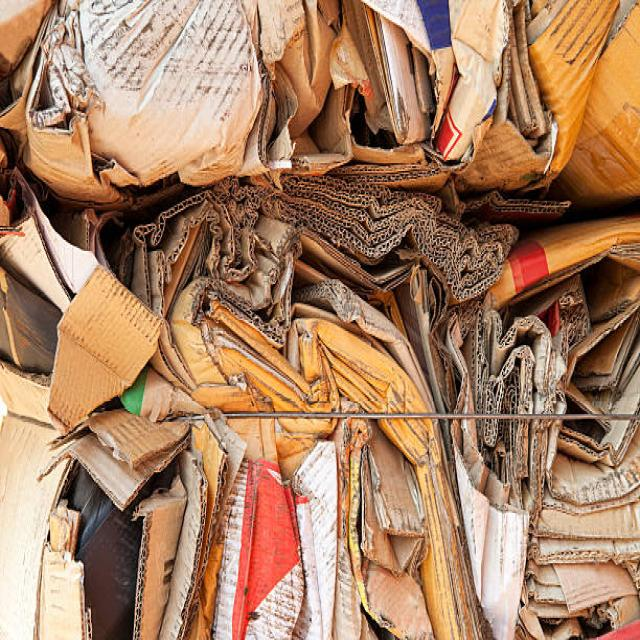cardboard: (37, 30, 612, 602)
